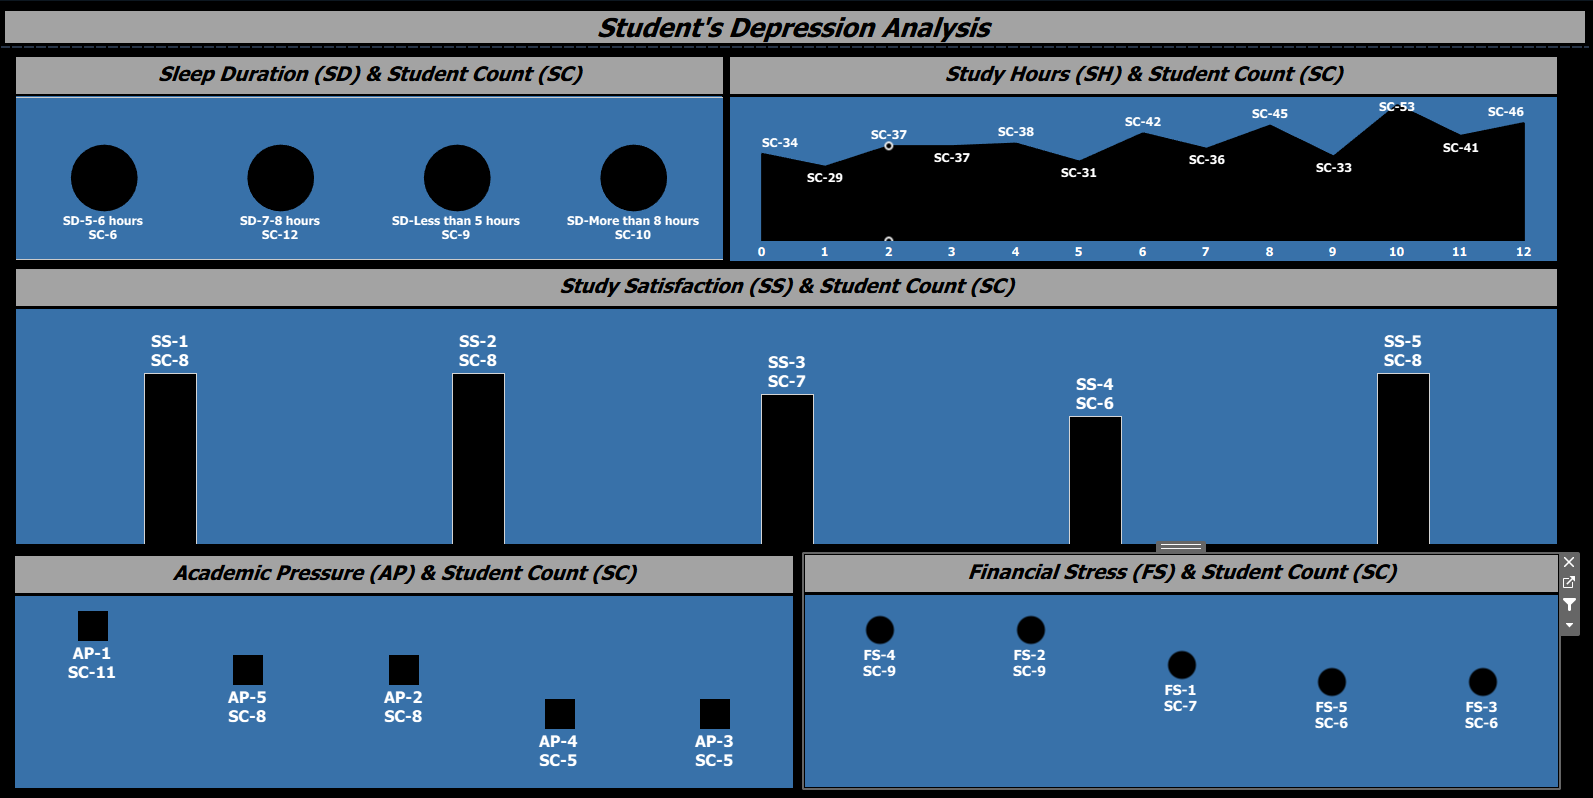

What the dashboard file says about the page in this screenshot:
{"tool":"tableau","page":{"name":"Student's Depression analysis","canvas":[1000,1000],"units":"permille","ordinal":0},"visuals":[{"type":"title","box":[5,9.9,990,49.4]},{"type":"worksheet","title":"SD & SC","mark":"Pie","cols":["Sleep_Duration"],"box":[13.7,70.7,442,254.3]},{"type":"worksheet","title":"SH & SC","mark":"Area","rows":["Index_Column"],"cols":["Study_Hours"],"box":[458.9,70.7,516.8,255.6]},{"type":"worksheet","title":"SS & SC","mark":"Automatic","rows":["Index_Column"],"cols":["Study_Satisfaction"],"box":[13.7,333.8,962,343.7]},{"type":"worksheet","title":"FS & SC","mark":"Circle","rows":["Index_Column"],"cols":["Financial_Stress"],"box":[505.6,688.6,470.7,290.3]},{"type":"worksheet","title":"AP & SC","mark":"Square","rows":["Index_Column"],"cols":["Academic_Pressure"],"box":[13.1,689.8,486.3,290.3]}]}

Visuals, with their boxes on the dashboard's canvas, which has no fixed pixel size, in thousandths of its width and height (x1, y1, x2, y2). These are canvas units, not pixel positions in the 1593x798 screenshot, which may show the page scaled, cropped or inside an application window:
title: l=5, t=10, r=995, b=59
"SD & SC" worksheet (Pie marks): l=14, t=71, r=456, b=325
"SH & SC" worksheet (Area marks): l=459, t=71, r=976, b=326
"SS & SC" worksheet: l=14, t=334, r=976, b=678
"FS & SC" worksheet (Circle marks): l=506, t=689, r=976, b=979
"AP & SC" worksheet (Square marks): l=13, t=690, r=499, b=980
